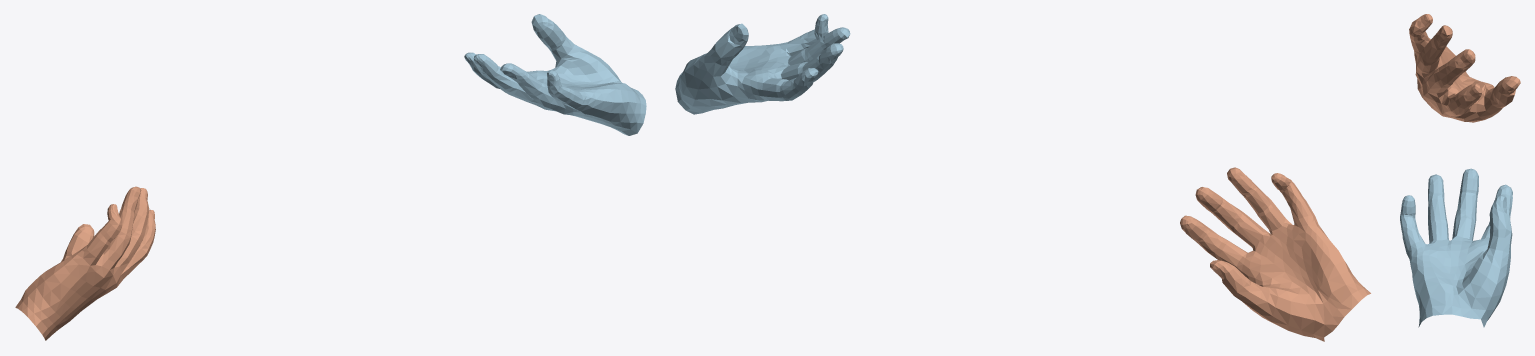
The model's file is frame_010.glb.
3 renders of one model, left to right at view 1: azimuth 30°, elevation 25°; view 2: azimuth 150°, elevation 25°; view 3: azimuth 270°, elevation 25°, orthographic. The views are drawn at different scales.
Parts seen in each view (by area): view 1: world; view 2: world; view 3: world.
Part boxes in pixels (x1,y1,x2,y2): world: [15, 14, 646, 340]; world: [675, 14, 1370, 341]; world: [1400, 14, 1520, 327].
Bounding box in the file's own units: 0.6244 × 0.1729 × 0.1003.
